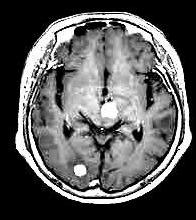Normal_Brain: (1, 1, 196, 220)
